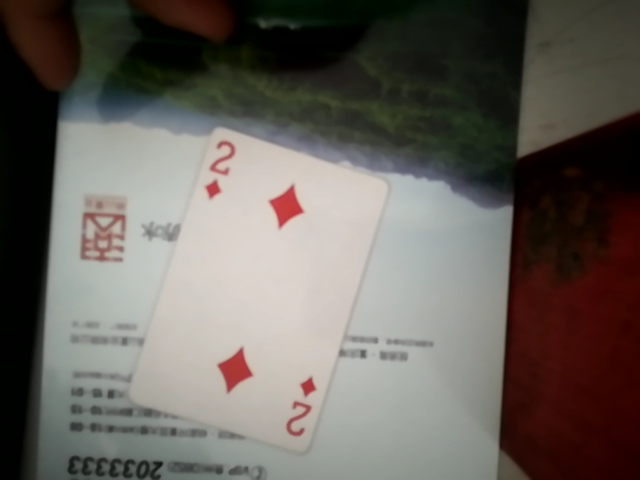fk 2: (133, 121, 372, 455)
